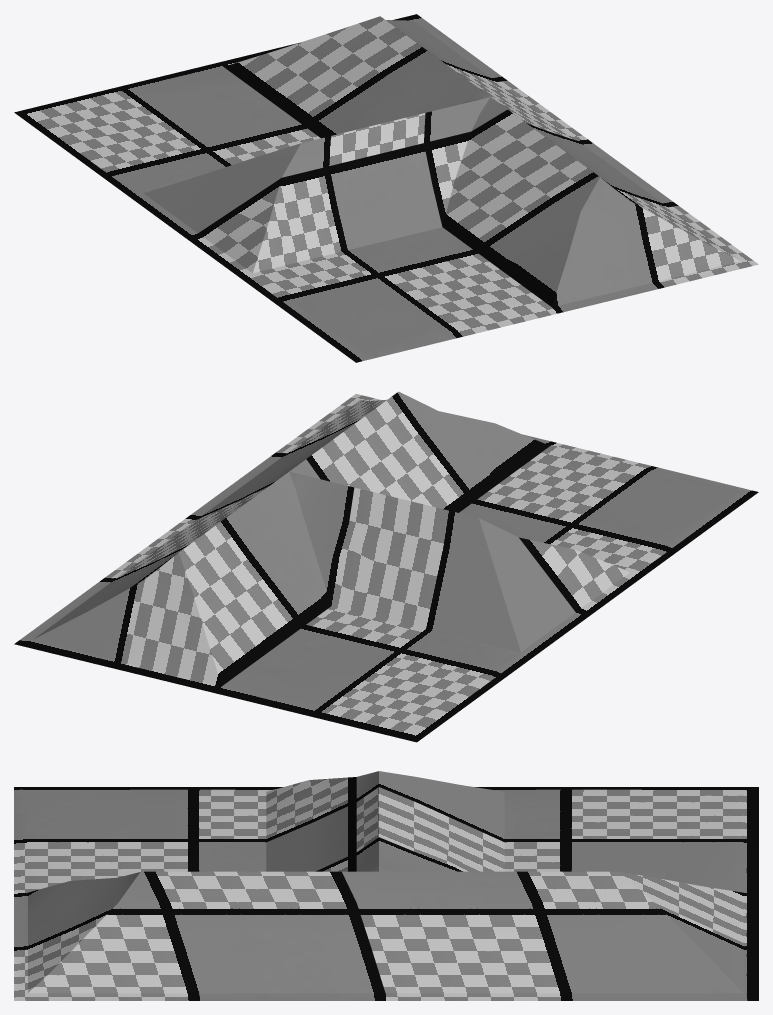
Rendered from roof_6744019.glb.
The picture shows the model from 3 angles, top to bottom: view 1: azimuth 30°, elevation 25°; view 2: azimuth 150°, elevation 25°; view 3: azimuth 270°, elevation 25°; orthographic projection. The views are drawn at different scales.
Visible parts, largest first — view 1: mesh; view 2: mesh; view 3: mesh.
Boxes of the visible parts, x1=… form: mesh: x1=14, y1=14, x2=758, y2=362; mesh: x1=14, y1=391, x2=758, y2=742; mesh: x1=14, y1=771, x2=758, y2=1000.
Size of the model in its own units: 34 by 5.6 by 50.
1 material, 1 textured.
